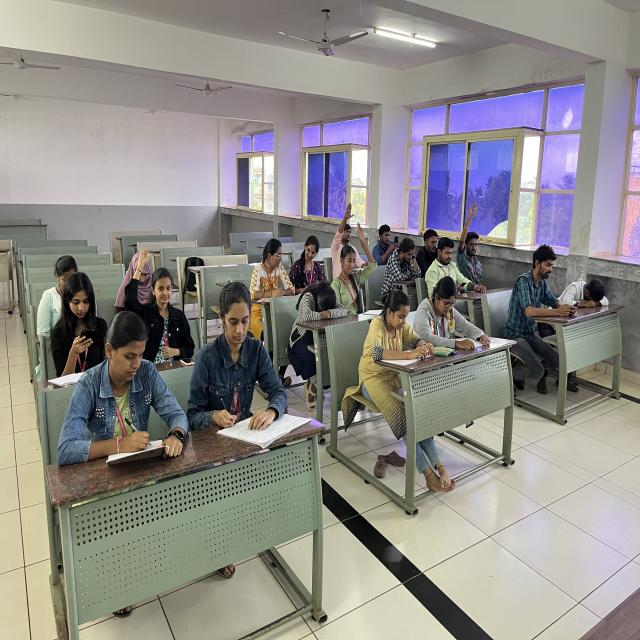Hand Rising: (126, 248, 194, 364), (336, 220, 377, 326), (452, 192, 484, 290), (331, 204, 359, 278)
Reading: (359, 287, 434, 376), (411, 270, 486, 353)
Sleeping: (283, 281, 368, 351), (557, 270, 618, 323)
Using Phone: (44, 270, 116, 370), (506, 248, 579, 328)
Writing: (55, 309, 186, 457), (182, 276, 290, 432), (279, 229, 340, 301), (249, 238, 296, 304)
